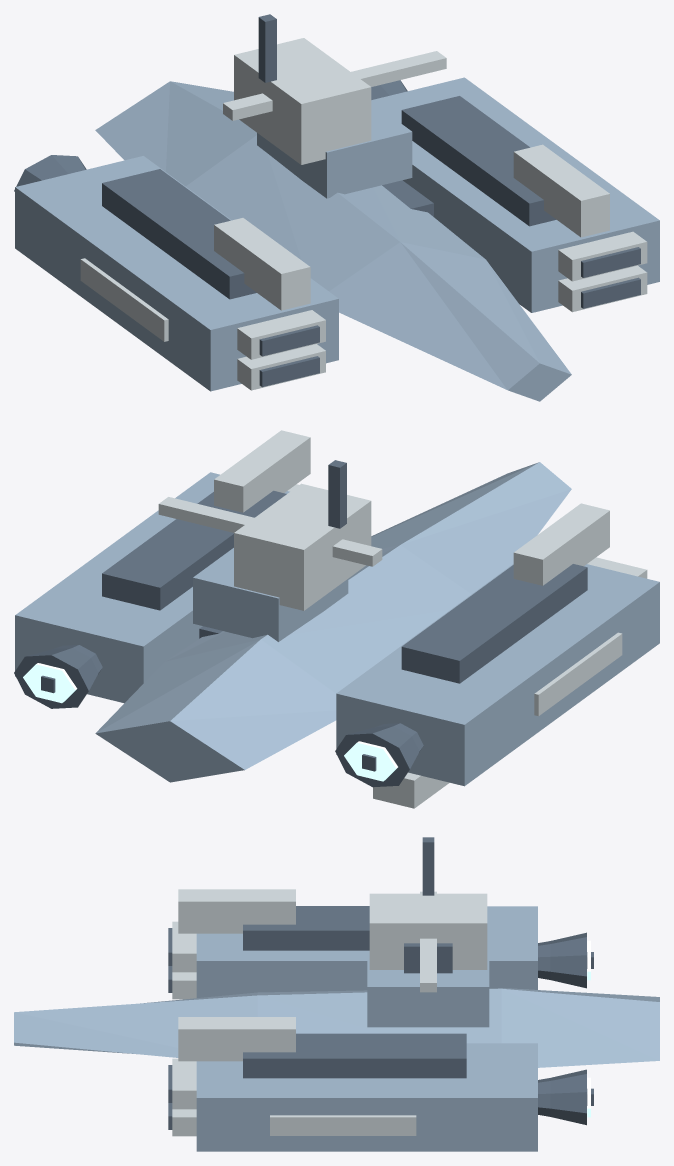
3 views of the same model, one above another, from view 1: azimuth 30°, elevation 25°; view 2: azimuth 150°, elevation 25°; view 3: azimuth 270°, elevation 25° (orthographic). The views are drawn at different scales.
Size of the model in its own units: 15.72 by 9.01 by 21.98.
